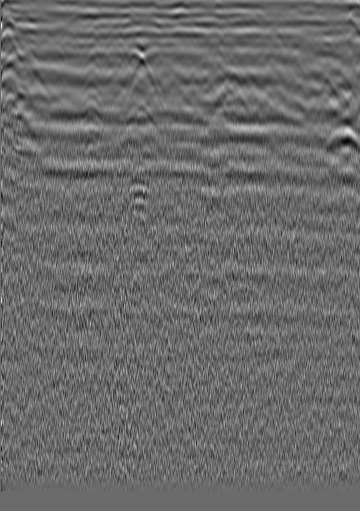가스: (122, 180, 157, 211)
상수: (292, 27, 312, 47)
오수: (23, 44, 43, 64)
우수: (172, 28, 192, 48)
